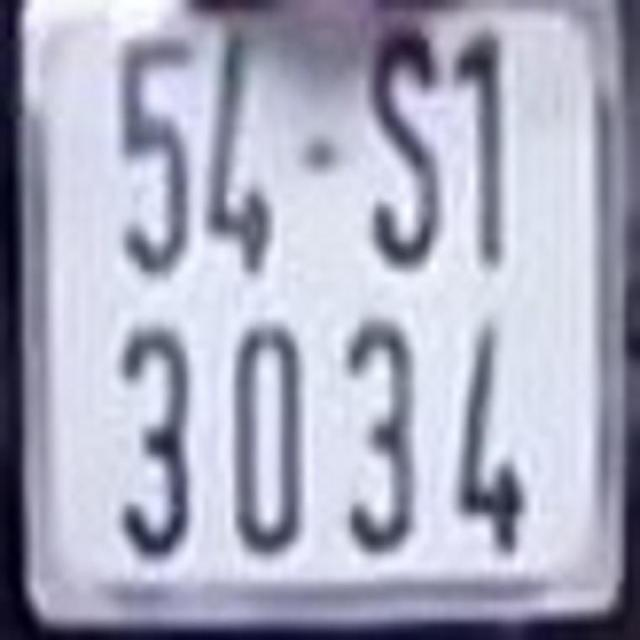0: (232, 320, 302, 555)
1: (456, 33, 507, 272)
3: (119, 324, 193, 556), (344, 318, 414, 558)
4: (456, 316, 528, 556), (205, 31, 272, 272)
5: (116, 33, 192, 273)
S: (367, 27, 441, 271)
